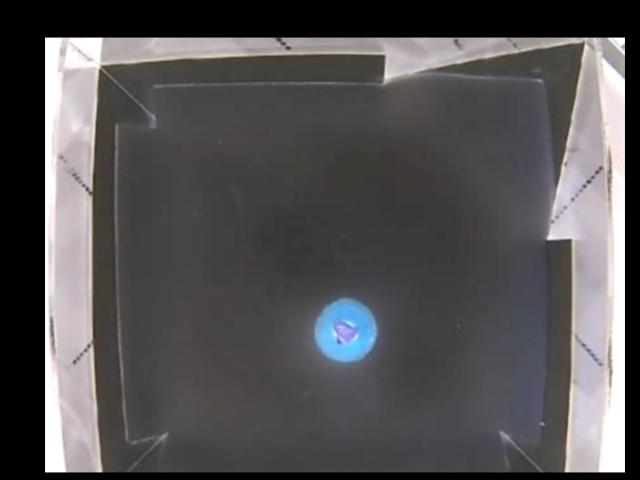Carrot: (314, 297, 374, 360)
